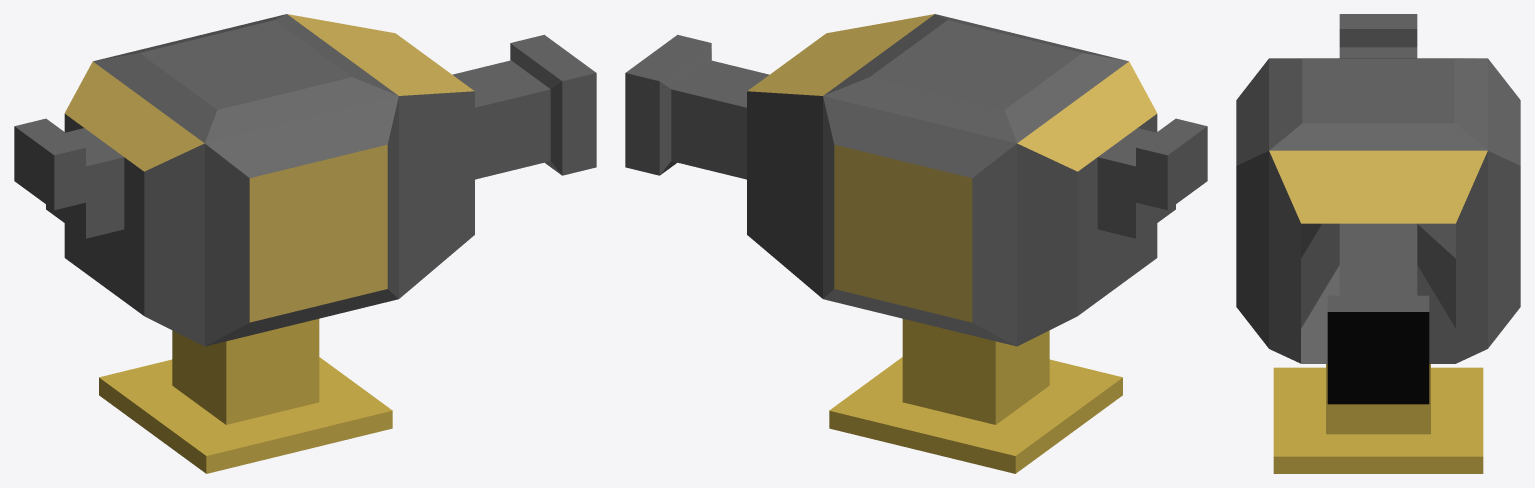
Rendered from Turret.fbx.
3 views of the same model, side by side, from view 1: azimuth 30°, elevation 25°; view 2: azimuth 150°, elevation 25°; view 3: azimuth 270°, elevation 25° (orthographic). The views are drawn at different scales.
Parts seen in each view (by area): view 1: Cube.001, Cube; view 2: Cube.001, Cube; view 3: Cube.001, Cube.
Boxes of the visible parts, left/top/right/bottom form: Cube.001: left=14, top=14, right=596, bottom=346; Cube: left=99, top=319, right=392, bottom=473; Cube.001: left=625, top=14, right=1207, bottom=346; Cube: left=829, top=319, right=1122, bottom=473; Cube.001: left=1236, top=14, right=1520, bottom=404; Cube: left=1273, top=364, right=1483, bottom=473.
Size of the model in its own units: 552 by 341 by 260.
